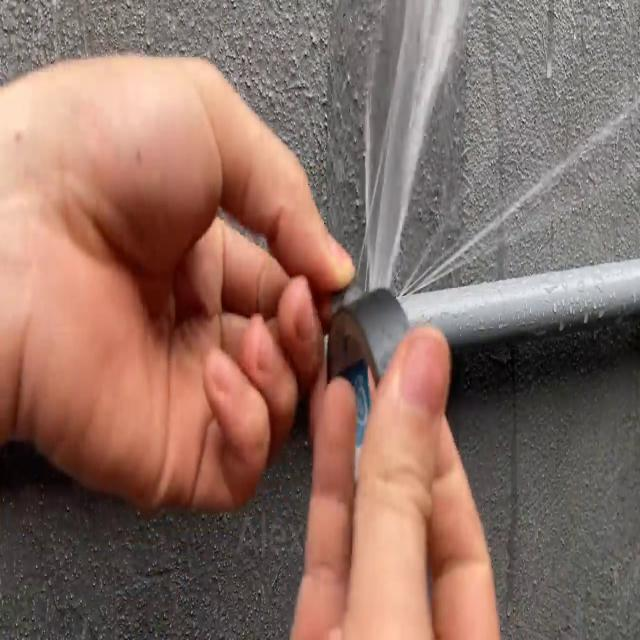leak: (361, 0, 470, 297)
